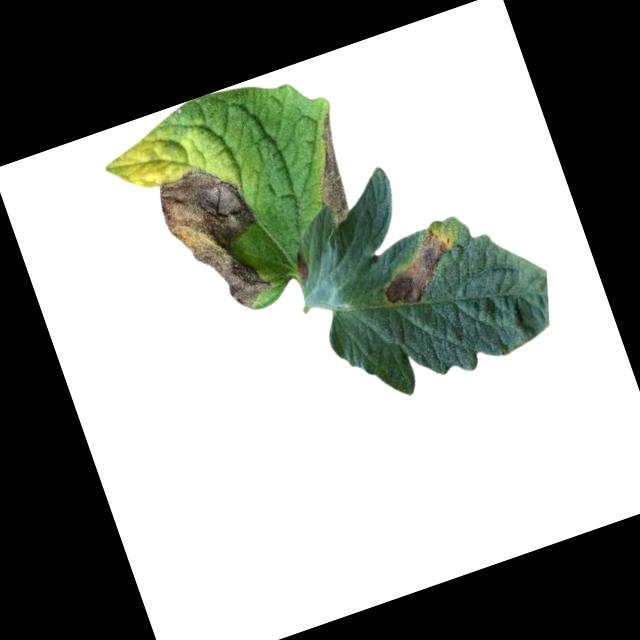Early_blight: (151, 154, 285, 327), (368, 221, 468, 312), (295, 112, 366, 229), (291, 251, 312, 284)
